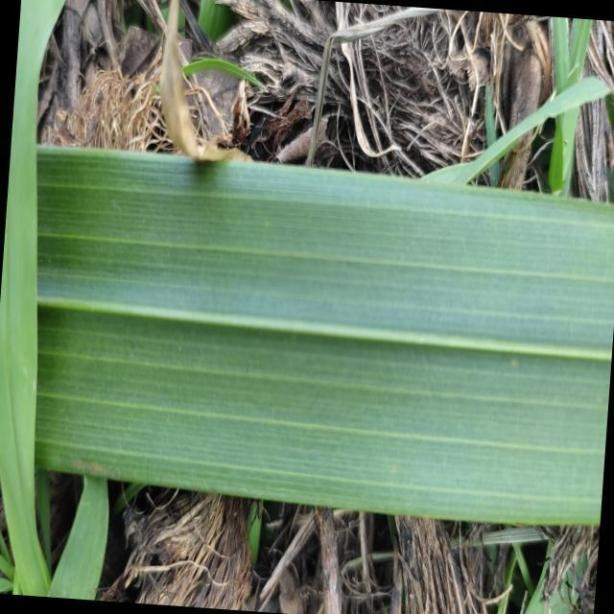Healthy: (0, 149, 614, 531)
